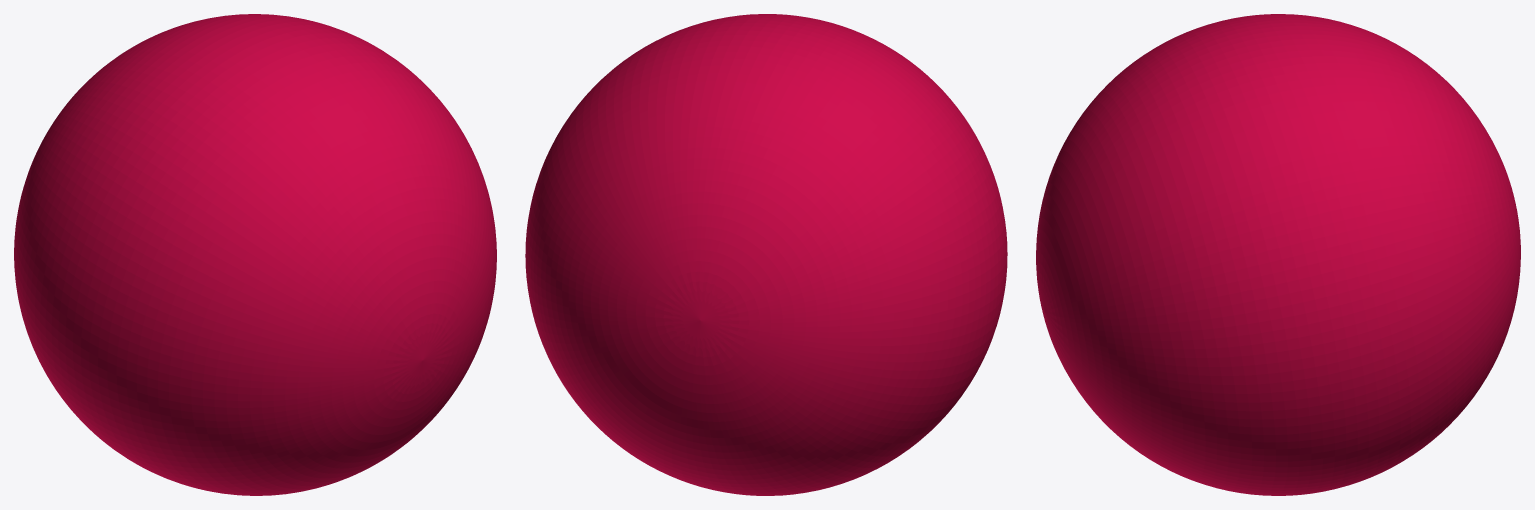
File: earth.obj
The picture shows the model from 3 angles, left to right: view 1: azimuth 30°, elevation 25°; view 2: azimuth 150°, elevation 25°; view 3: azimuth 270°, elevation 25°; orthographic projection.
Visible parts, largest first — view 1: Sphere_Sphere.007; view 2: Sphere_Sphere.007; view 3: Sphere_Sphere.007.
Part boxes in pixels (x1=…): Sphere_Sphere.007: x1=14, y1=14, x2=496, y2=495; Sphere_Sphere.007: x1=525, y1=14, x2=1007, y2=495; Sphere_Sphere.007: x1=1036, y1=14, x2=1520, y2=495.
Bounding box in the file's own units: 1.97 × 1.97 × 1.99.
